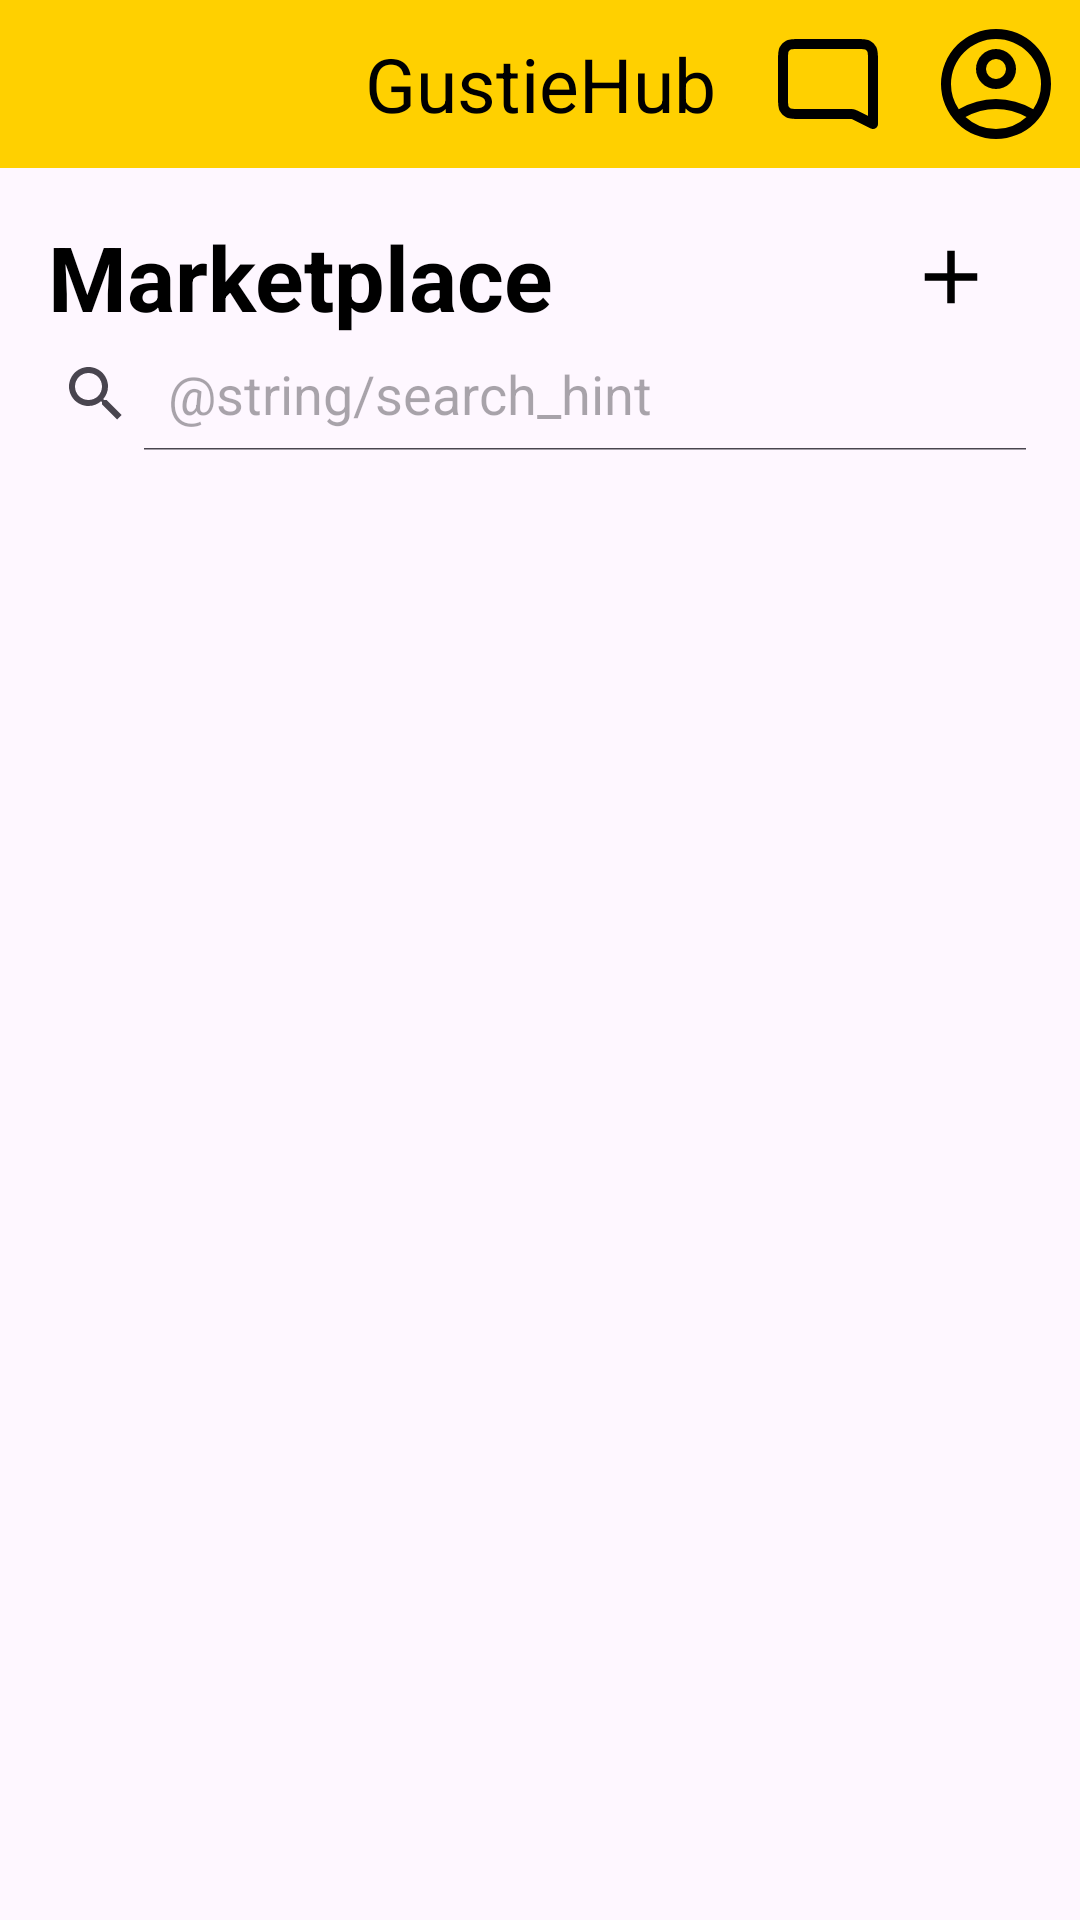

Icon click points for this 1080w x 1920h phone screenshot, format (x=x, y=y):
message: (x=828, y=84)
profile: (x=996, y=84)
